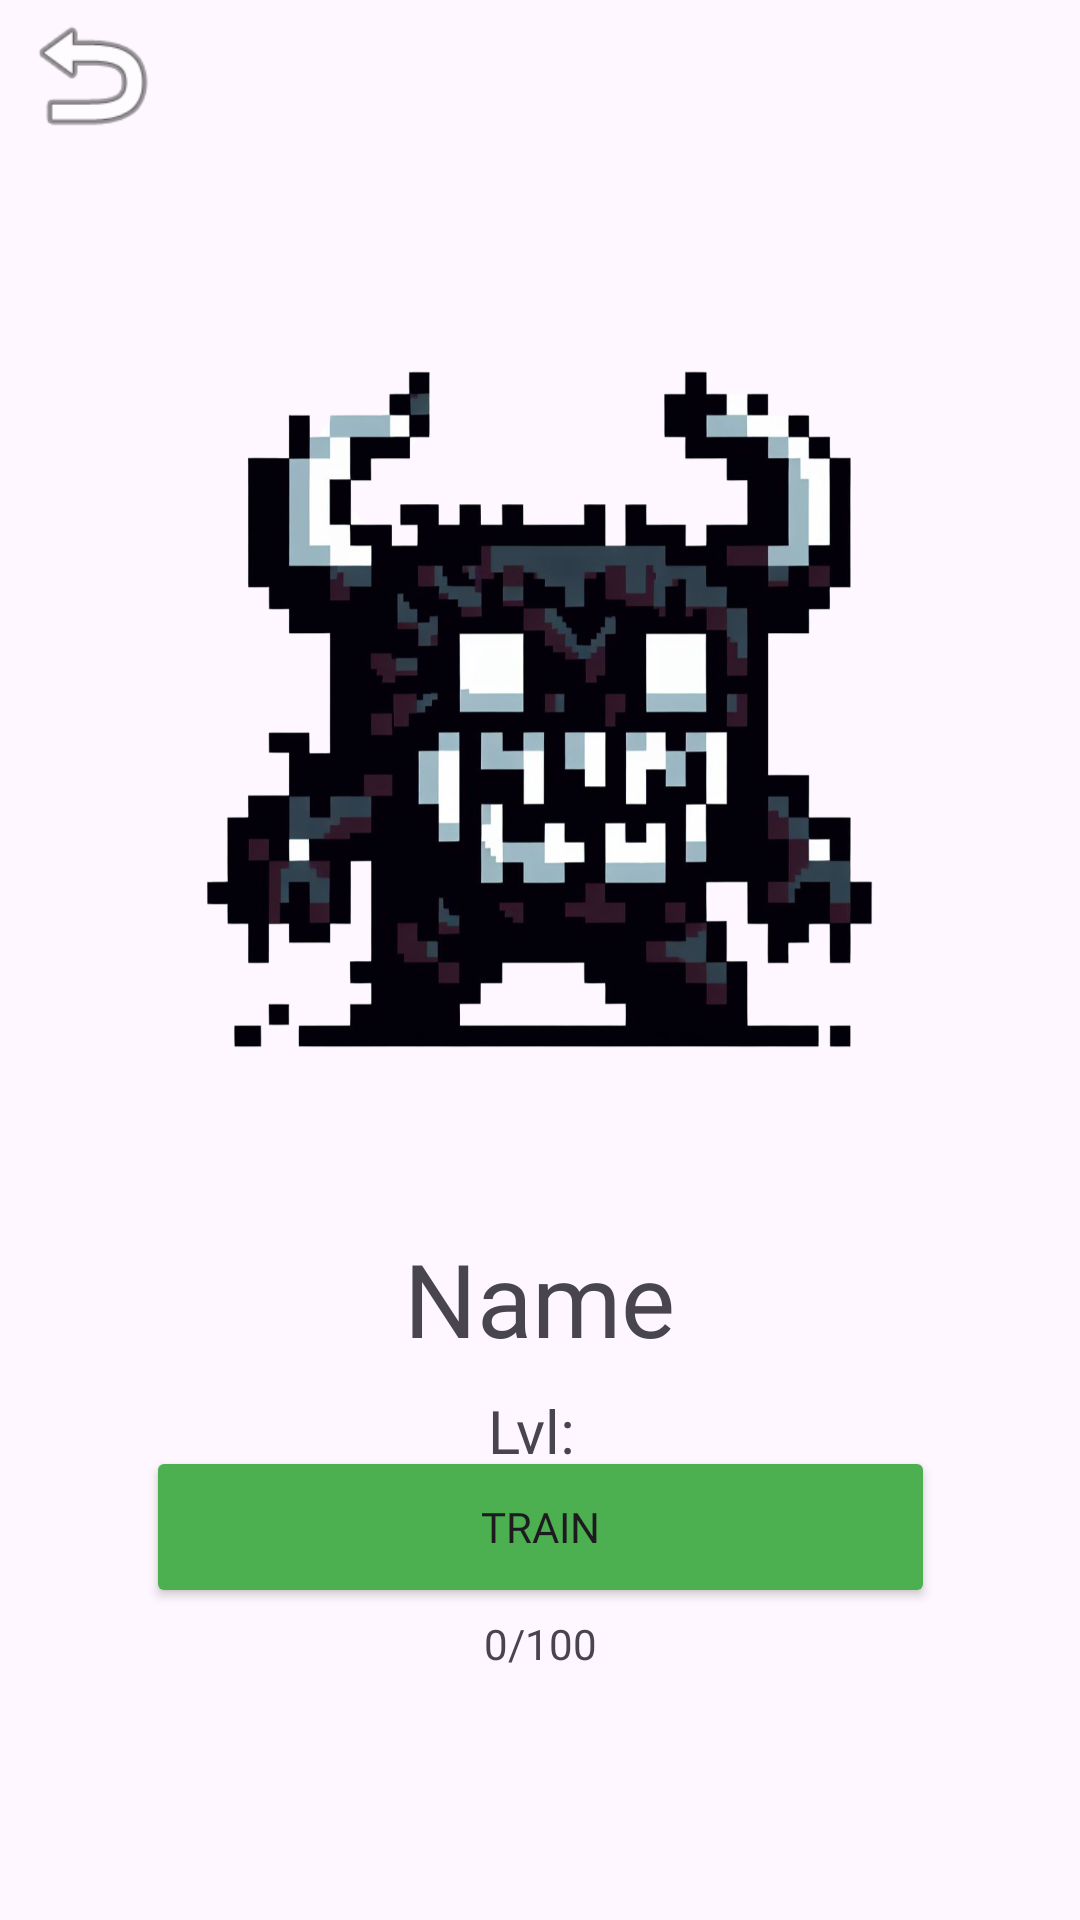

Locate icon controls on the screen. Image size 1080*1920, boxes as (x1, y1, x2, y2).
revert: (39, 27, 148, 125)
